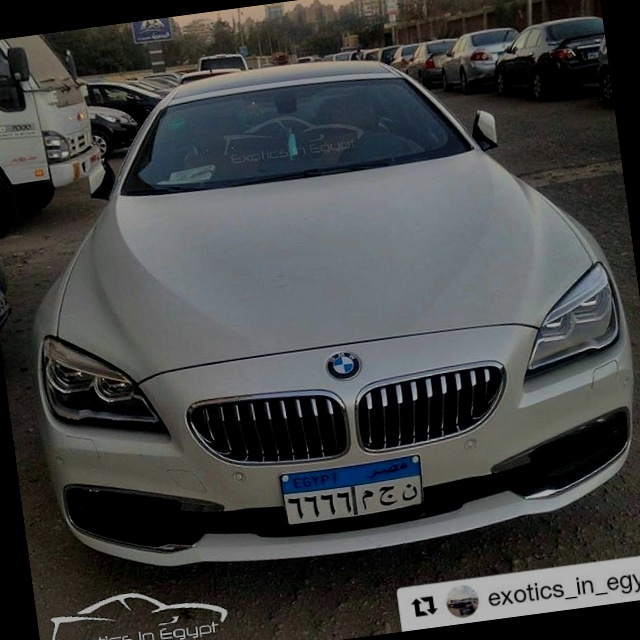License Plate: (275, 451, 431, 531)
